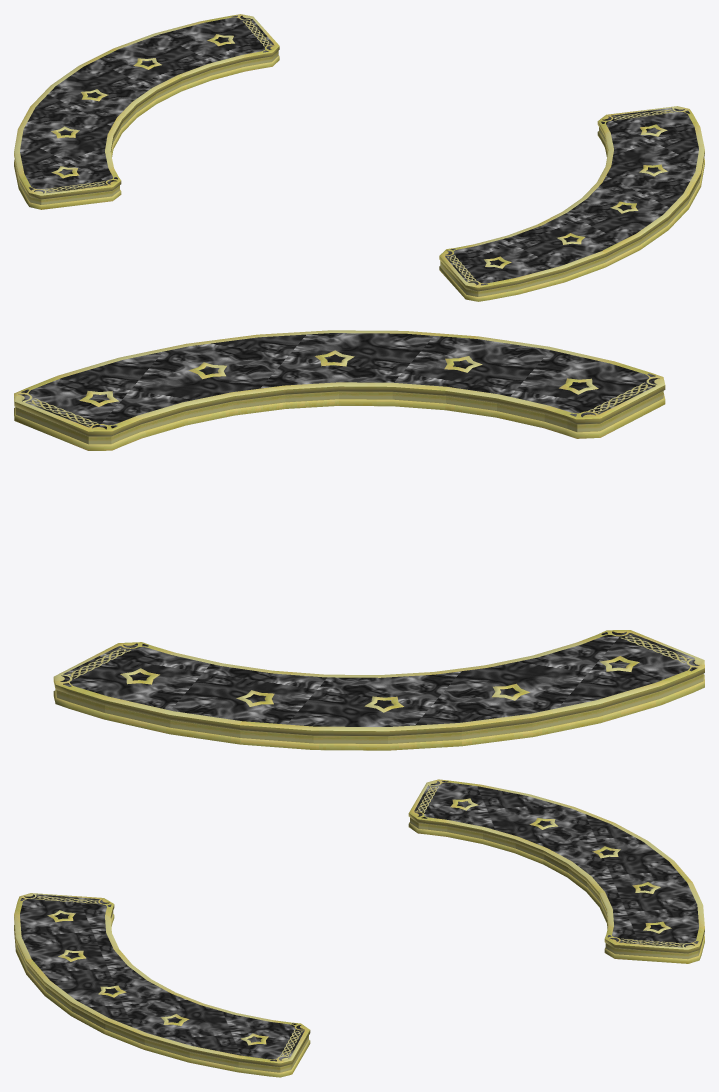
The model's file is plateB.obj.
3 views of the same model, one above another, from view 1: azimuth 30°, elevation 25°; view 2: azimuth 150°, elevation 25°; view 3: azimuth 270°, elevation 25° (orthographic). The views are drawn at different scales.
Visible parts, largest first — view 1: n0b0_ID20.001, n3b3_ID47.001, n2b2_ID38.001, n1b1_ID29.001; view 2: n0b0_ID20.001, n3b3_ID47.001, n2b2_ID38.001, n1b1_ID29.001; view 3: n0b0_ID20.001, n3b3_ID47.001, n2b2_ID38.001, n1b1_ID29.001.
Part boxes in pixels (x1=…): n0b0_ID20.001: x1=20, y1=15, x2=698, y2=285; n3b3_ID47.001: x1=14, y1=14, x2=704, y2=301; n2b2_ID38.001: x1=51, y1=34, x2=667, y2=268; n1b1_ID29.001: x1=44, y1=20, x2=674, y2=281; n0b0_ID20.001: x1=18, y1=333, x2=699, y2=726; n3b3_ID47.001: x1=14, y1=330, x2=704, y2=750; n2b2_ID38.001: x1=79, y1=350, x2=639, y2=712; n1b1_ID29.001: x1=28, y1=382, x2=690, y2=678; n0b0_ID20.001: x1=20, y1=781, x2=698, y2=1061; n3b3_ID47.001: x1=14, y1=779, x2=704, y2=1077; n2b2_ID38.001: x1=47, y1=798, x2=671, y2=1045; n1b1_ID29.001: x1=35, y1=786, x2=683, y2=1056.
Bounding box in the file's own units: 52.02 × 1.31 × 53.49.
Materials: 3 (3 with a texture image).
